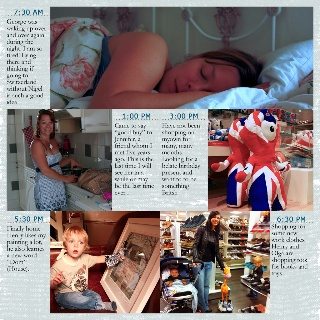without_mask: (210, 214, 220, 225)
